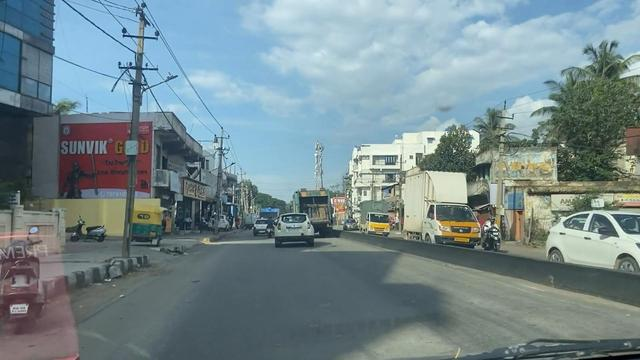LMV: (275, 212, 316, 248)
